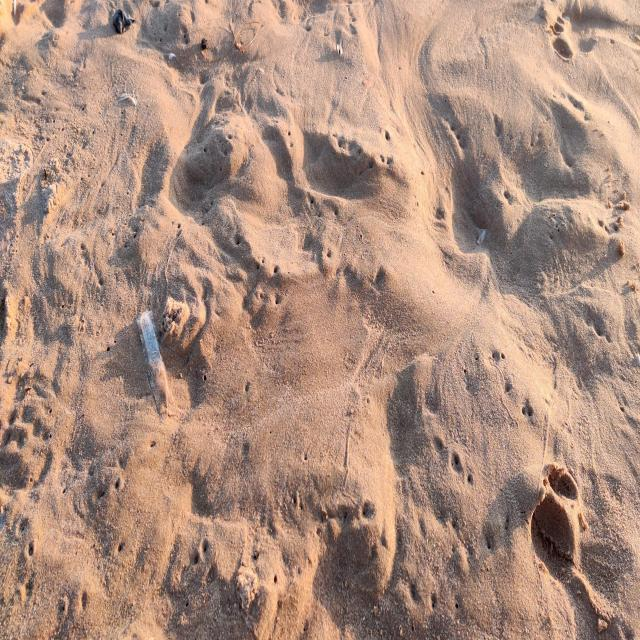litter: (136, 309, 176, 422)
